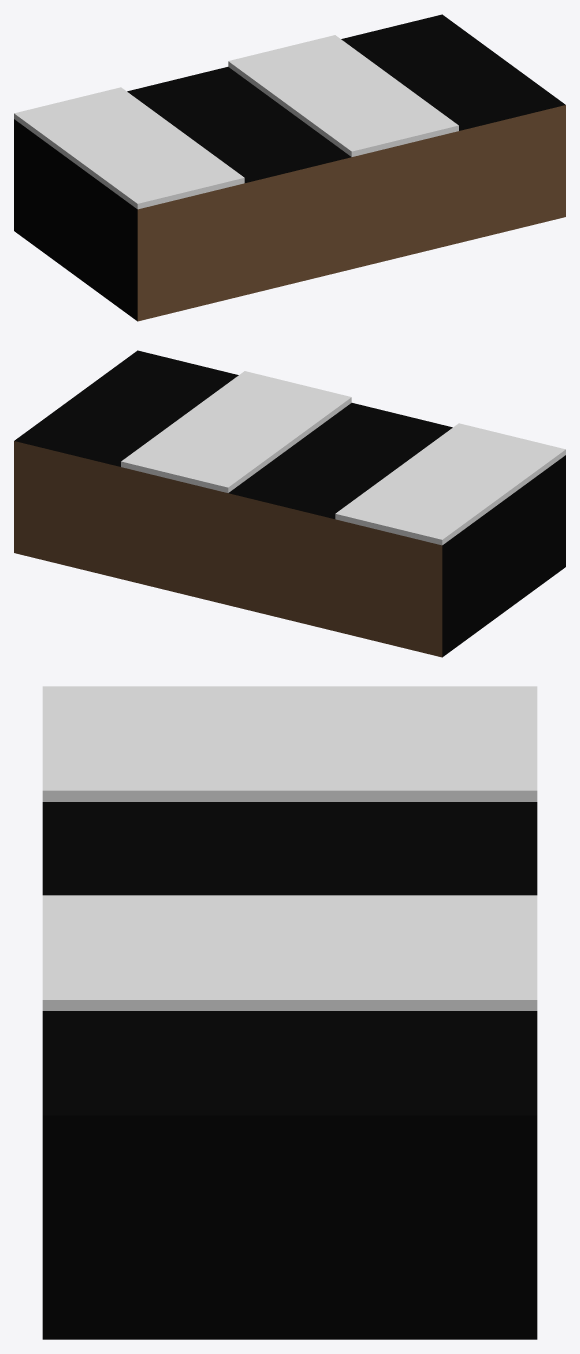
The model's file is SimpleBeltV2.fbx.
3 views of the same model, one above another, from view 1: azimuth 30°, elevation 25°; view 2: azimuth 150°, elevation 25°; view 3: azimuth 270°, elevation 25° (orthographic). The views are drawn at different scales.
Visible parts, largest first — view 1: Cube; view 2: Cube; view 3: Cube.
Boxes of the visible parts, box(x1,y1,x2,y2) form: Cube: box(14, 14, 565, 321); Cube: box(14, 350, 565, 657); Cube: box(42, 686, 537, 1339).
Bounding box in the file's own units: 200 × 52.5 × 100.
